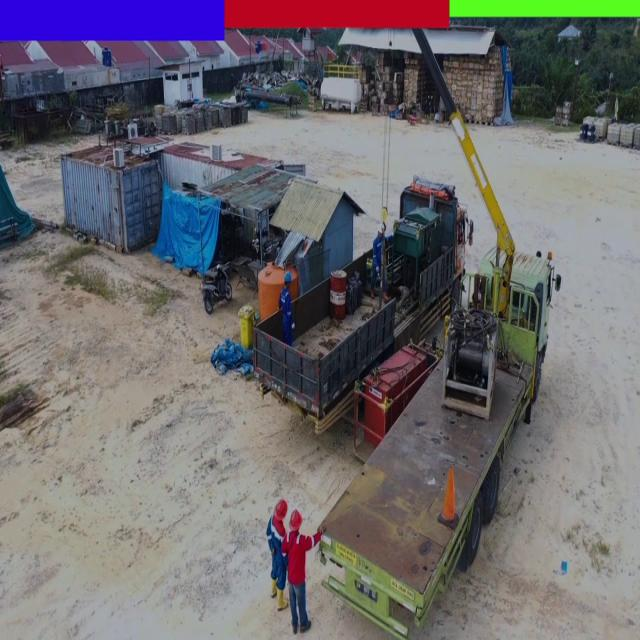Hardhat: (289, 508, 303, 530), (275, 498, 287, 520), (282, 269, 293, 283), (376, 222, 384, 235)
No Glove: (320, 524, 327, 535)
No Overall Suit: (281, 530, 322, 622), (278, 288, 295, 348), (373, 237, 385, 289)
Overall Suit: (267, 518, 286, 590)
Safety Boots: (278, 589, 288, 609), (383, 289, 390, 304), (271, 579, 277, 596), (370, 290, 376, 300)
